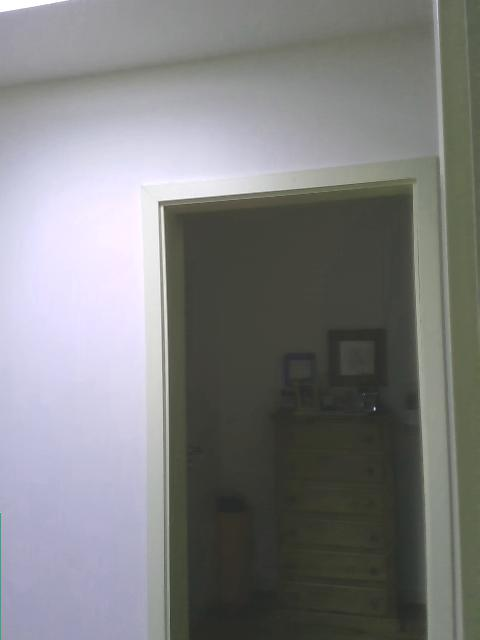open_door: (140, 157, 455, 638)
